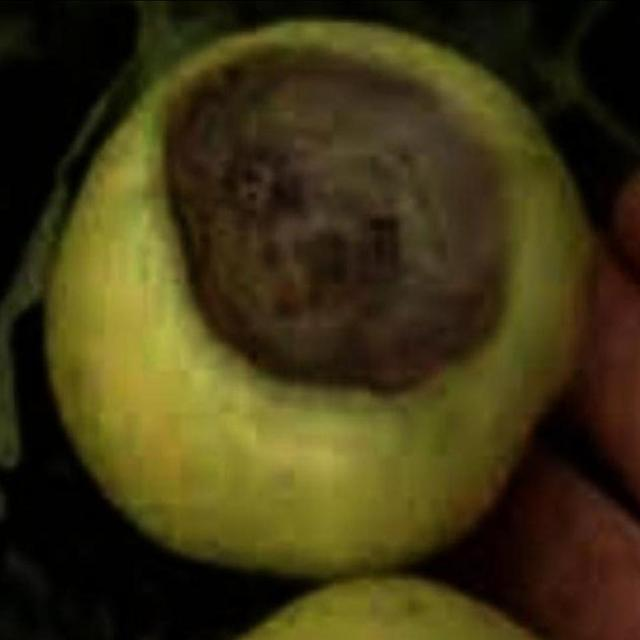Blossom End Rot Fruit: (109, 26, 349, 265)
